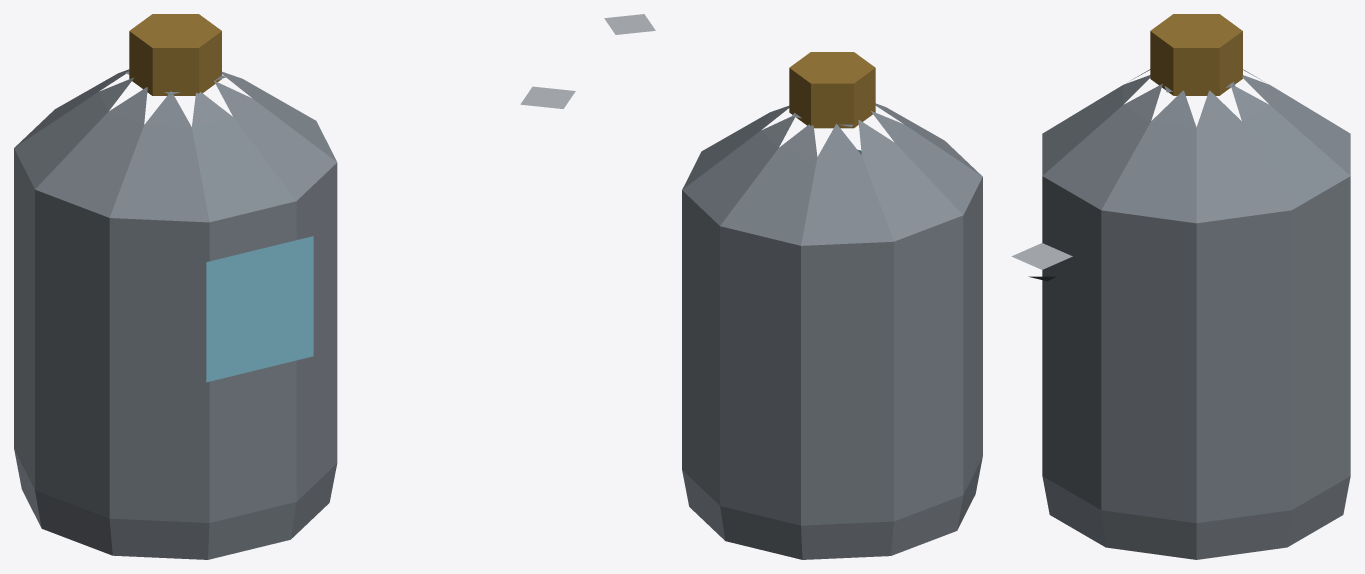
The model's file is projector-tank-cryo.lod.glb.
3 views of the same model, side by side, from view 1: azimuth 30°, elevation 25°; view 2: azimuth 150°, elevation 25°; view 3: azimuth 270°, elevation 25° (orthographic). The views are drawn at different scales.
Visible parts, largest first — view 1: m; view 2: m; view 3: m.
Part boxes in pixels (bbox=[...]): m: bbox=[14, 14, 575, 559]; m: bbox=[604, 14, 982, 559]; m: bbox=[1011, 14, 1350, 559].
Bounding box in the file's own units: 0.1124 × 0.1077 × 0.0714.
